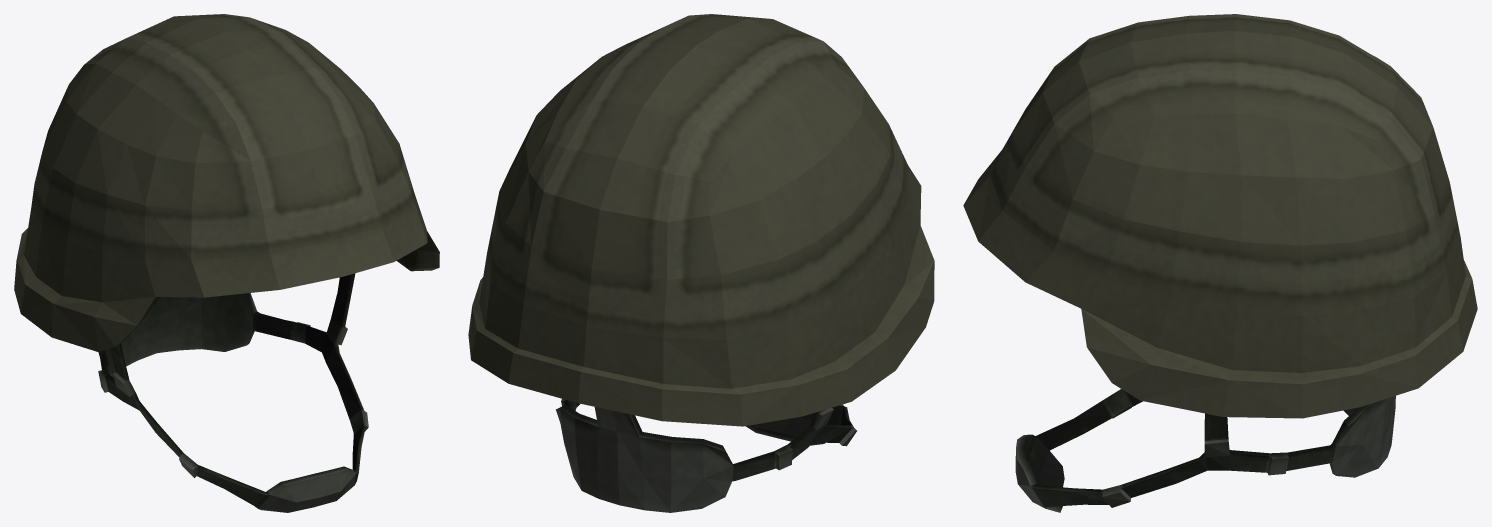
File: helmet green.obj
The picture shows the model from 3 angles, left to right: view 1: azimuth 30°, elevation 25°; view 2: azimuth 150°, elevation 25°; view 3: azimuth 270°, elevation 25°; orthographic projection. The views are drawn at different scales.
Visible parts, largest first — view 1: Default; view 2: Default; view 3: Default.
Boxes of the visible parts, <box> form: Default: <box>14,14,439,512</box>; Default: <box>468,14,934,512</box>; Default: <box>963,14,1477,512</box>.
Size of the model in its own units: 1.59 by 1.79 by 1.79.
1 material, 1 textured.
